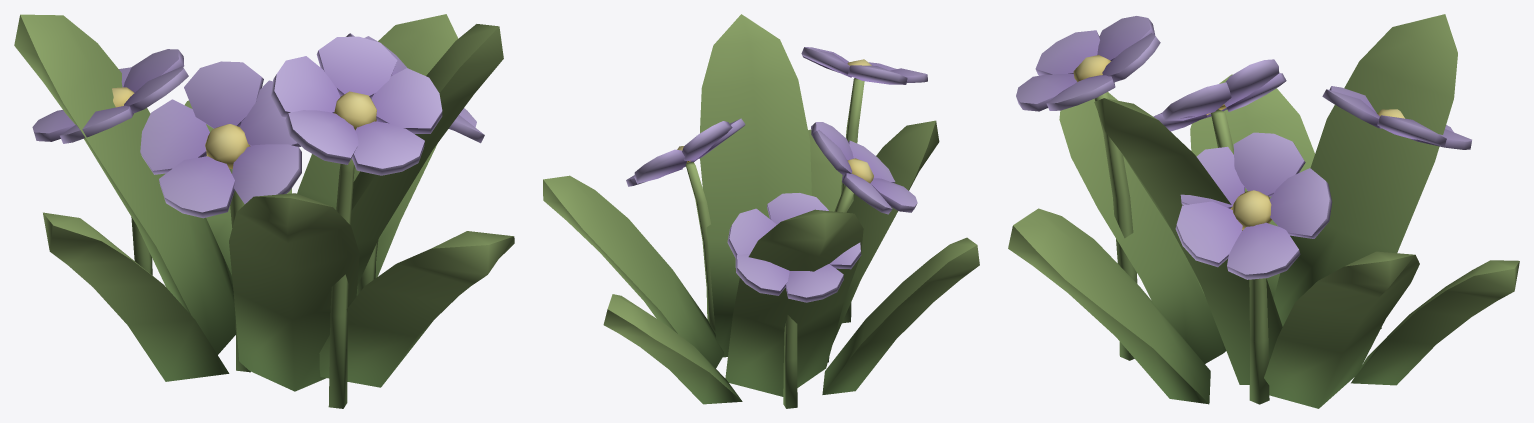
File: flowers_small_c.glb
3 views of the same model, side by side, from view 1: azimuth 30°, elevation 25°; view 2: azimuth 150°, elevation 25°; view 3: azimuth 270°, elevation 25° (orthographic). The views are drawn at different scales.
Parts seen in each view (by area): view 1: Flowers_Small_C.001; view 2: Flowers_Small_C.001; view 3: Flowers_Small_C.001.
Boxes of the visible parts, left/top/right/bottom form: Flowers_Small_C.001: left=14, top=14, right=514, bottom=408; Flowers_Small_C.001: left=543, top=14, right=979, bottom=408; Flowers_Small_C.001: left=1008, top=14, right=1519, bottom=408.
Size of the model in its own units: 0.3634 by 0.2653 by 0.3626.
